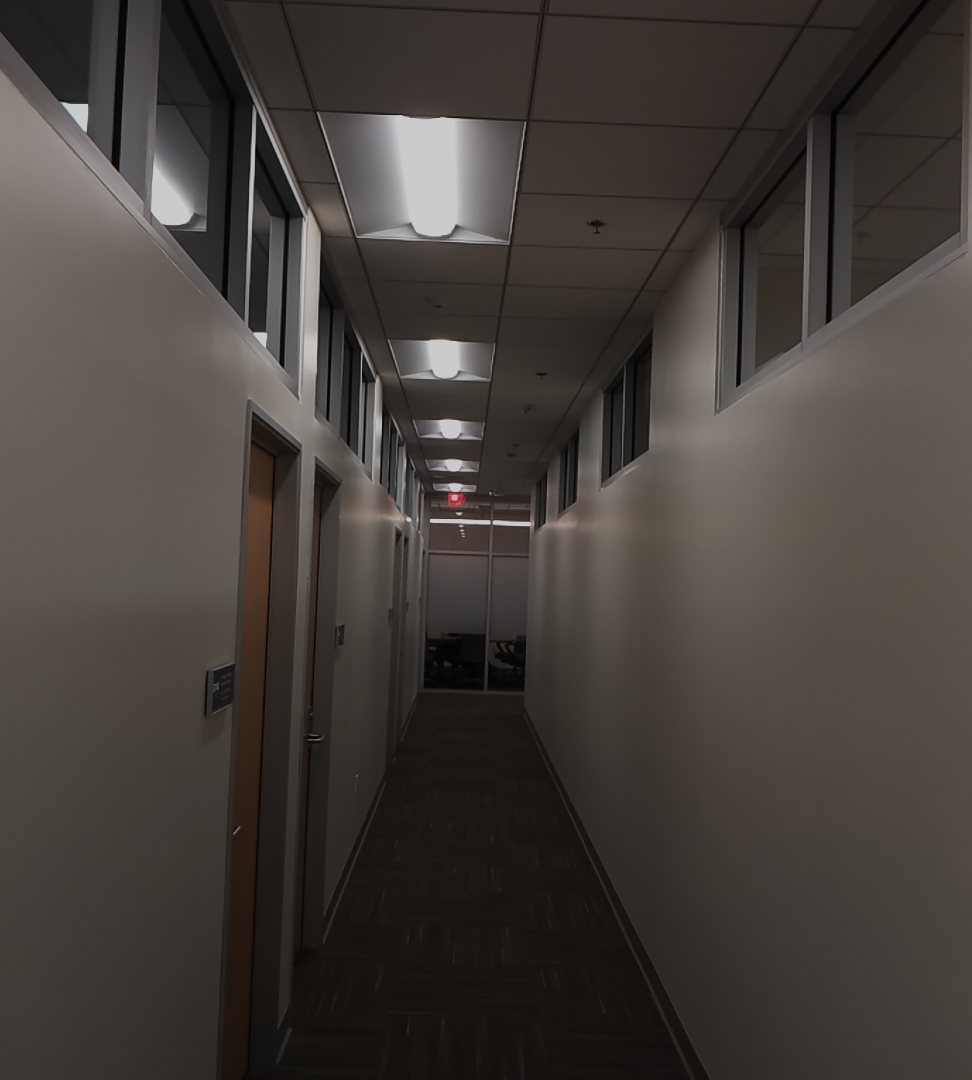emergency_exit: (204, 662, 236, 717), (445, 489, 466, 507)
